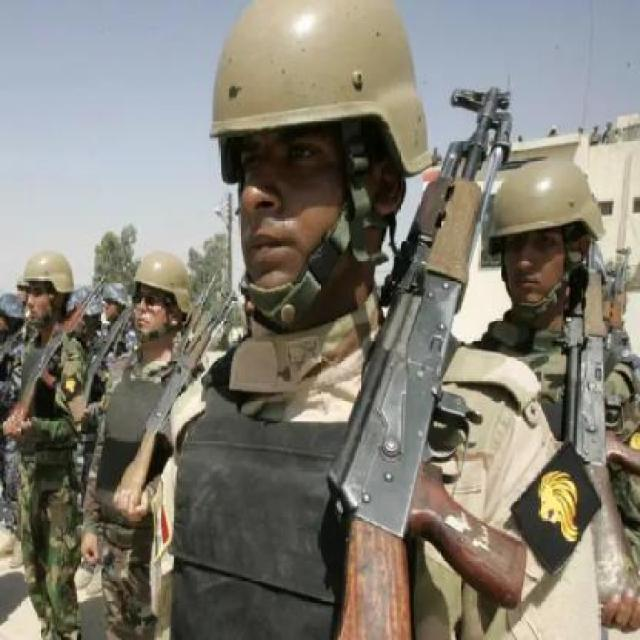weapon: (317, 78, 538, 633)
